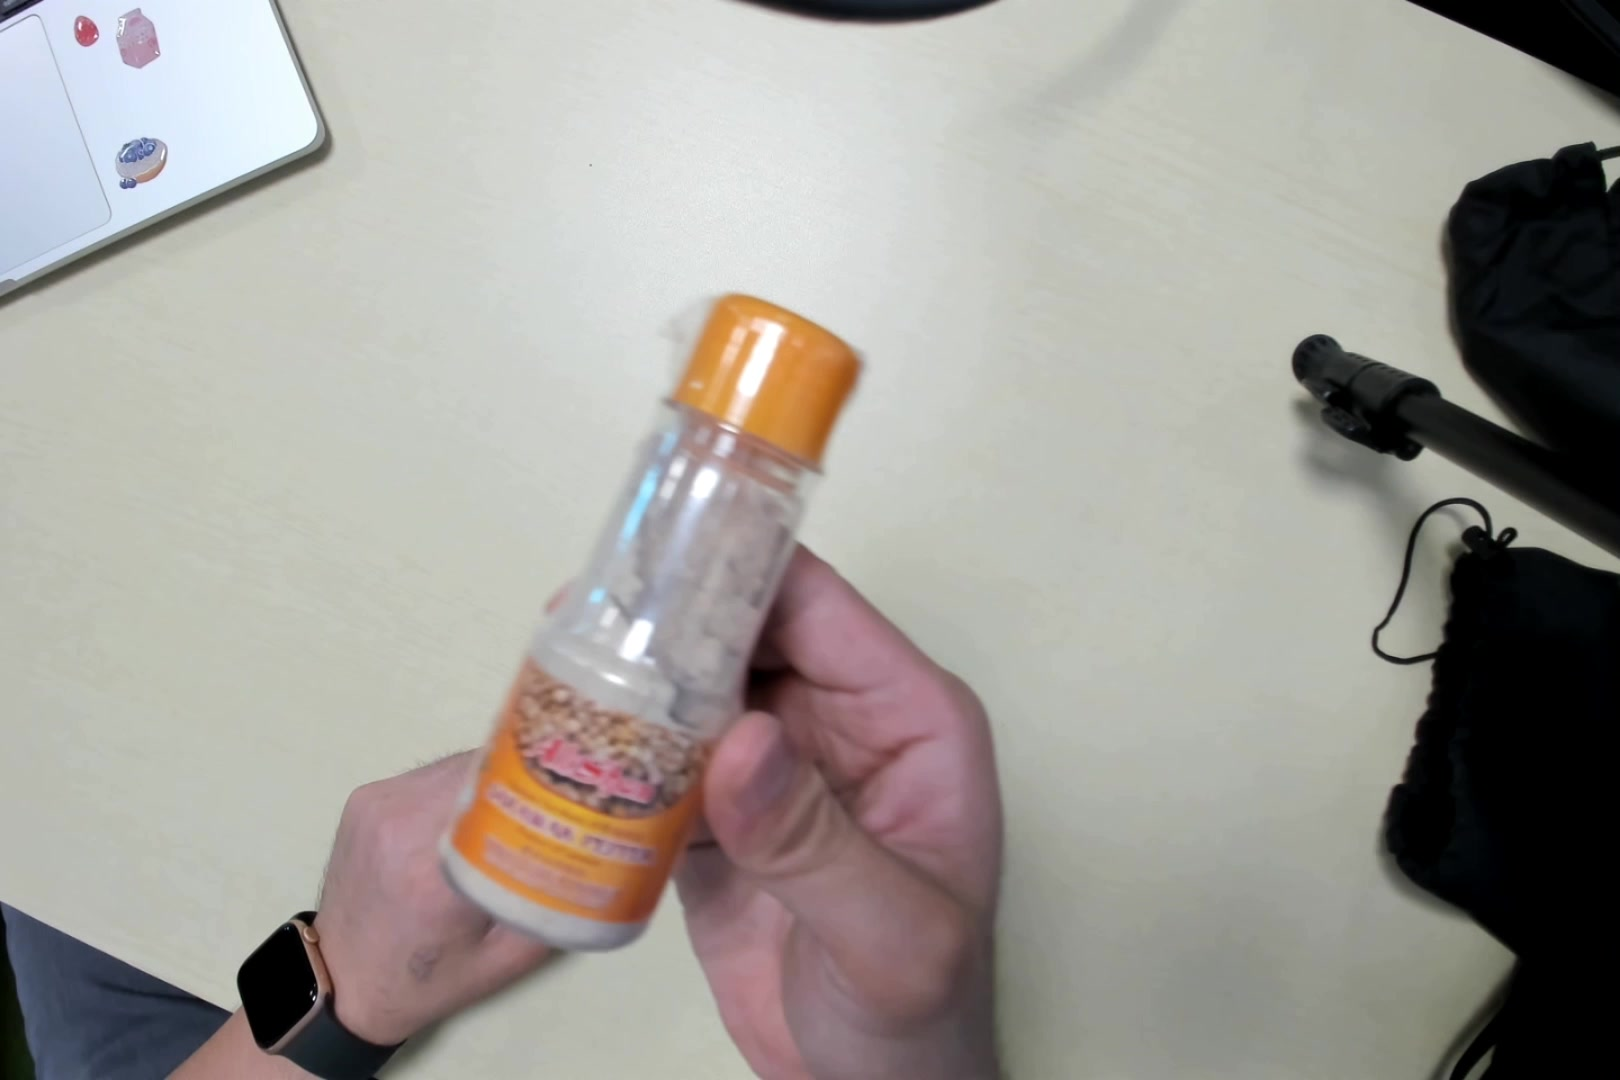HeabsSpicesPepper_0-99g_NonHalal_NonHealthy: (454, 283, 859, 978)
